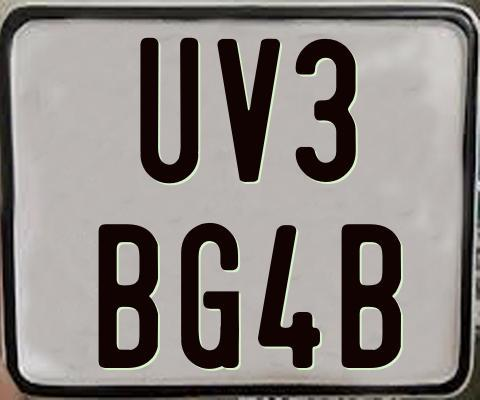3: (292, 36, 356, 179)
4: (258, 223, 325, 368)
B: (98, 223, 161, 373), (339, 221, 400, 370)
G: (179, 221, 237, 369)
U: (137, 36, 197, 186)
V: (217, 36, 285, 180)
